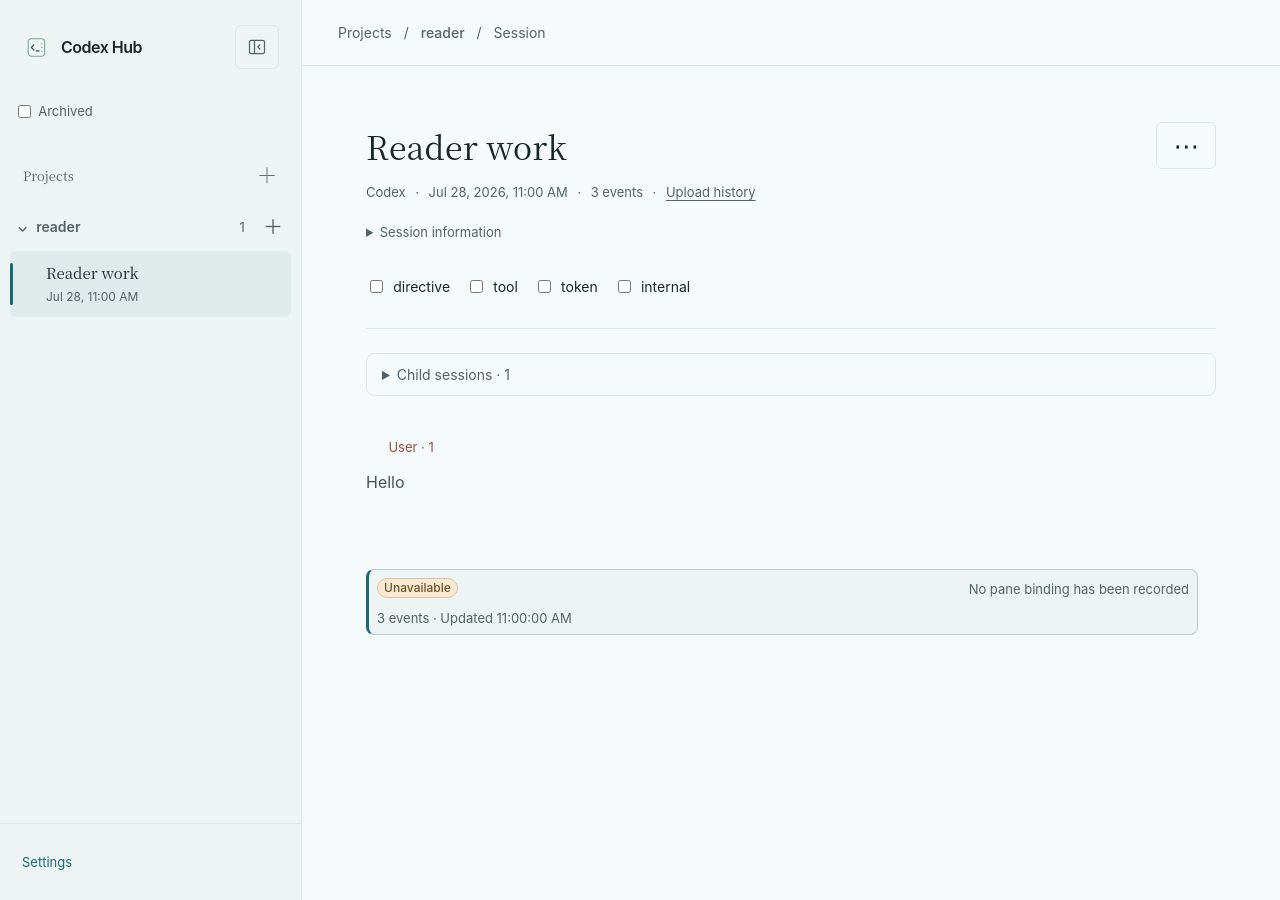
Test case: keeps archived content open while removing navigation, then returns to the project list after deletion
The width and height of the screenshot is (1280, 900).
Click the button named "Session management". click: (1186, 145)
box: top-left (1156, 122), bottom-right (1216, 169)
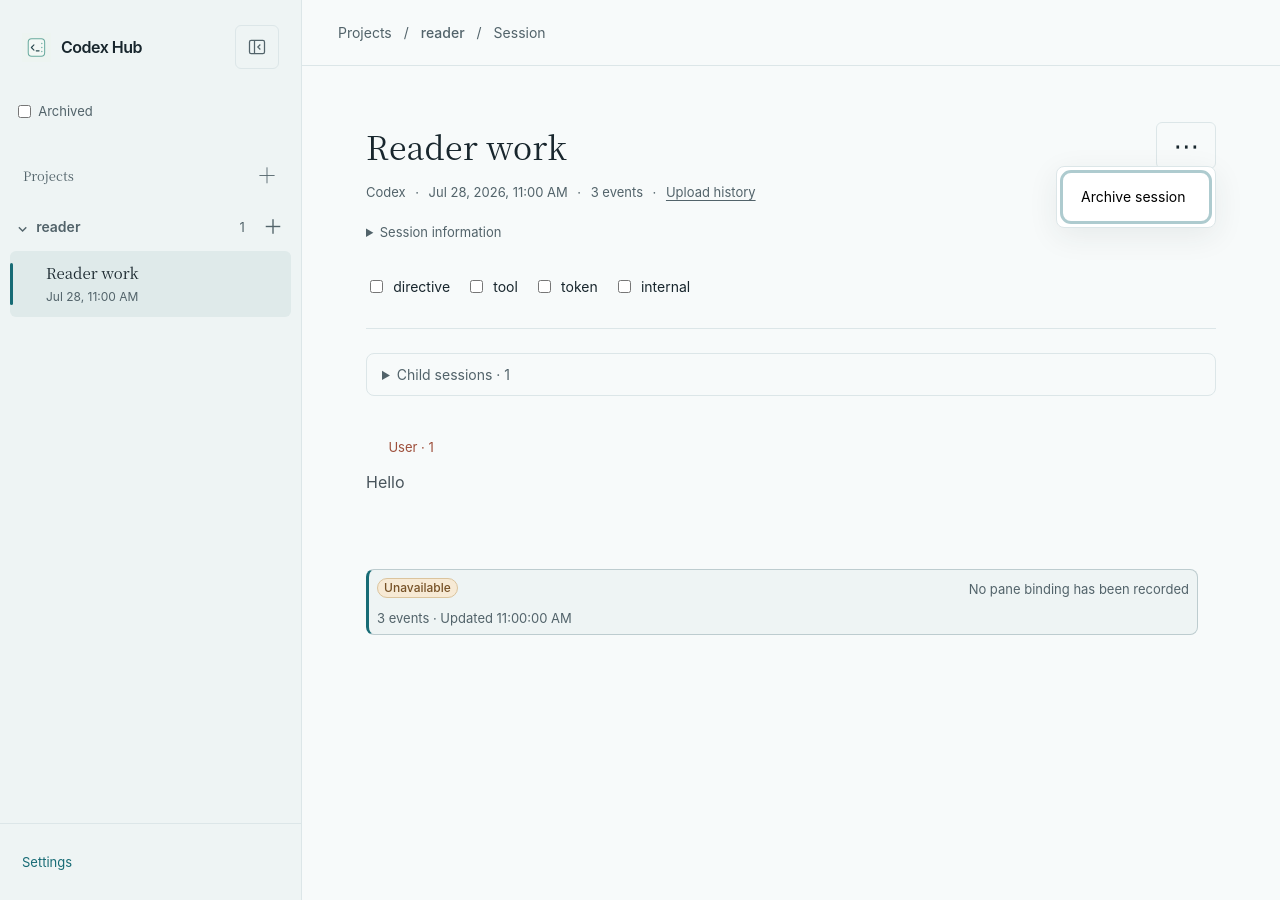
Click the button "Archive session". click: (1136, 197)
box: top-left (1065, 175), bottom-right (1207, 219)
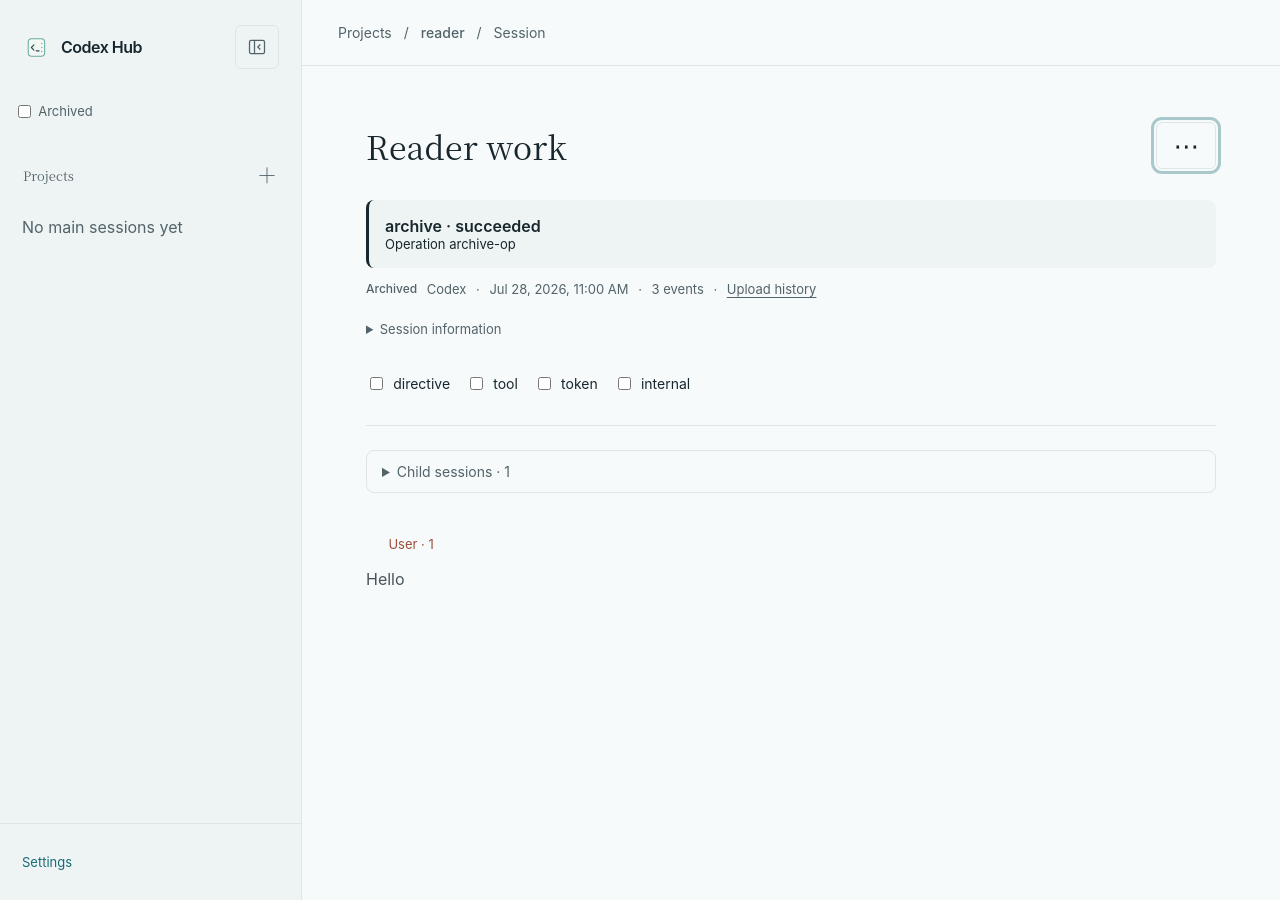
Expected: the heading "Reader work" is shown, top-left (366, 123), bottom-right (567, 169)
Click the button named "Session management". click: (1186, 145)
box: top-left (1156, 122), bottom-right (1216, 169)
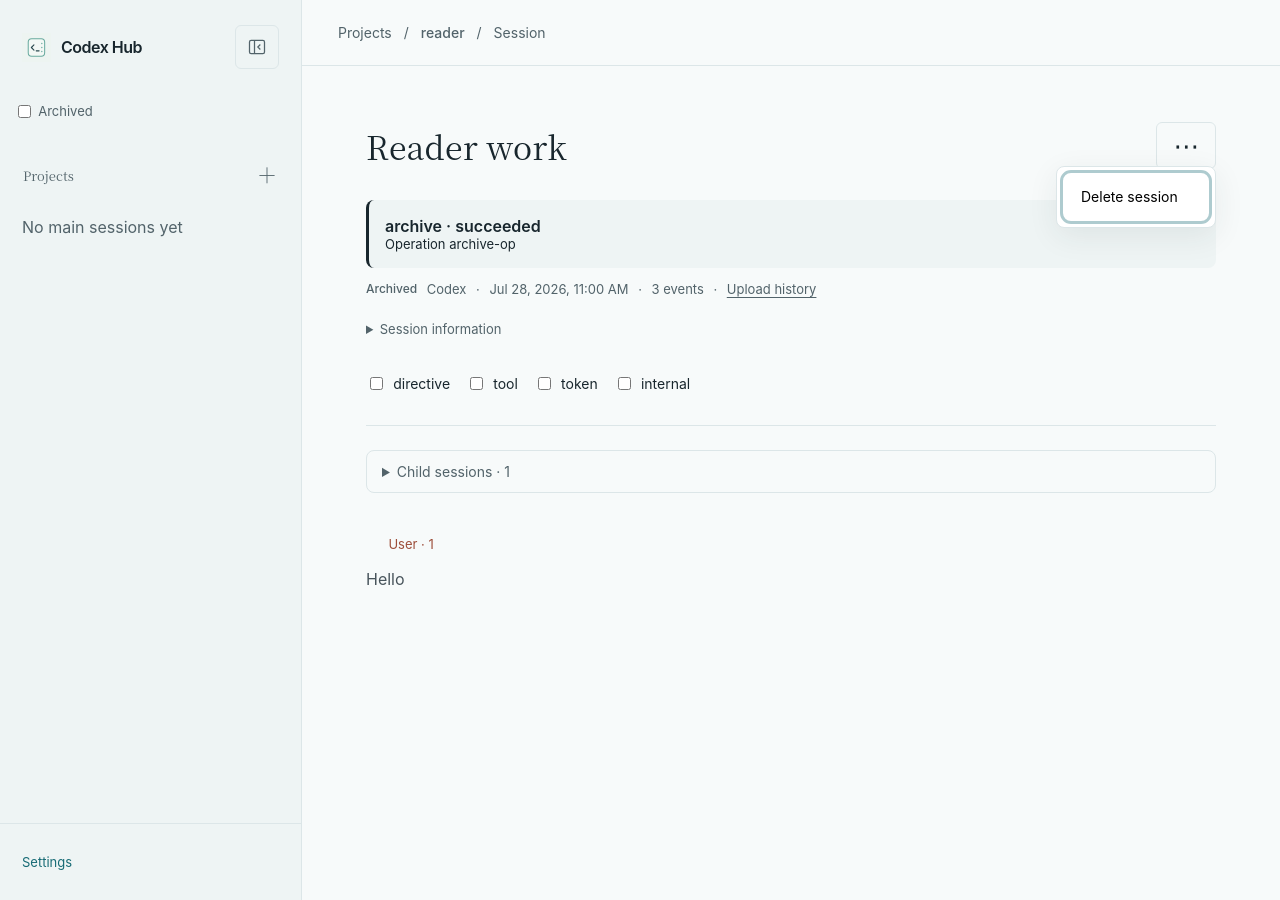
Click the button "Delete session". click: (1136, 197)
box: top-left (1065, 175), bottom-right (1207, 219)
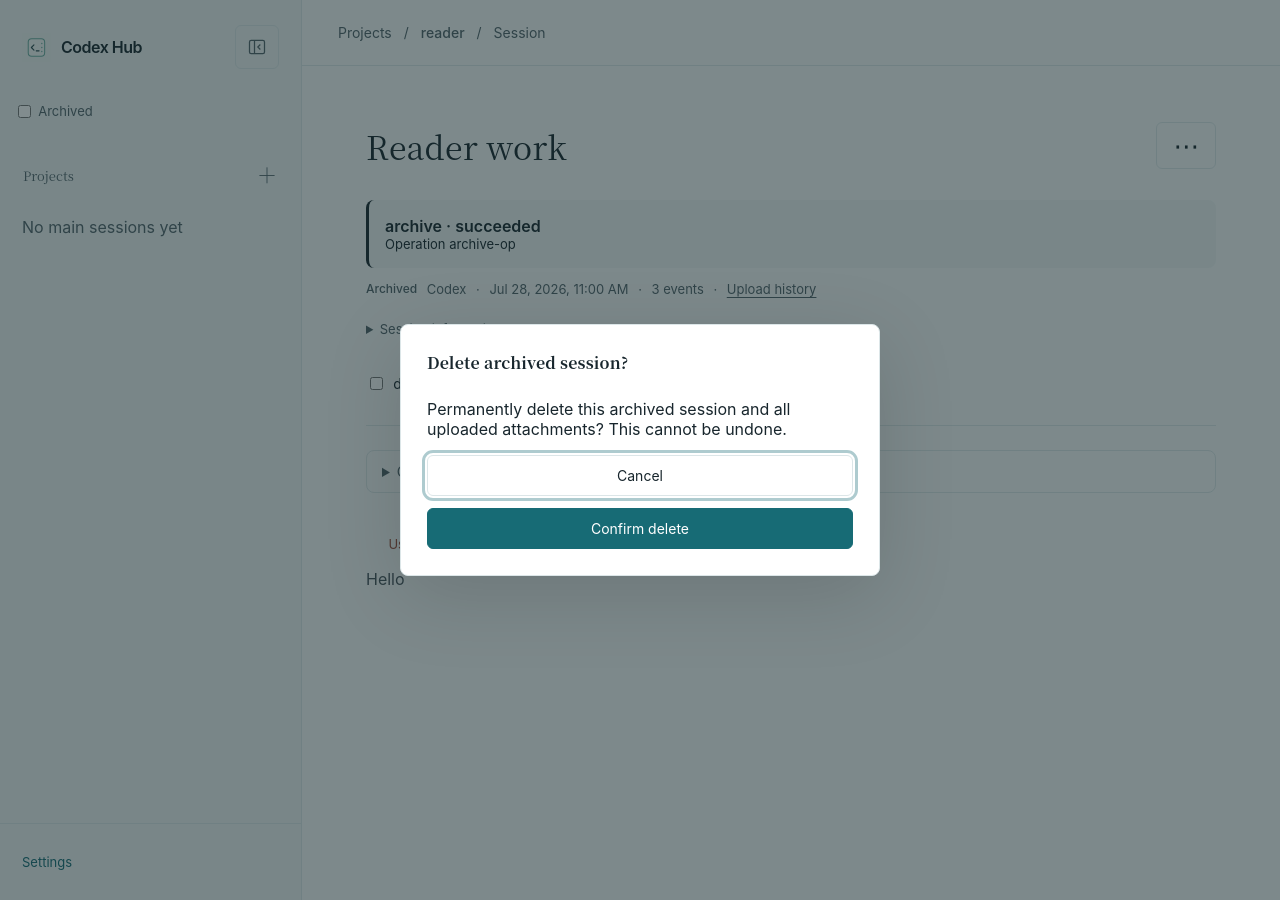
Click the button "Confirm delete". click: (640, 528)
box: top-left (427, 508), bottom-right (853, 549)
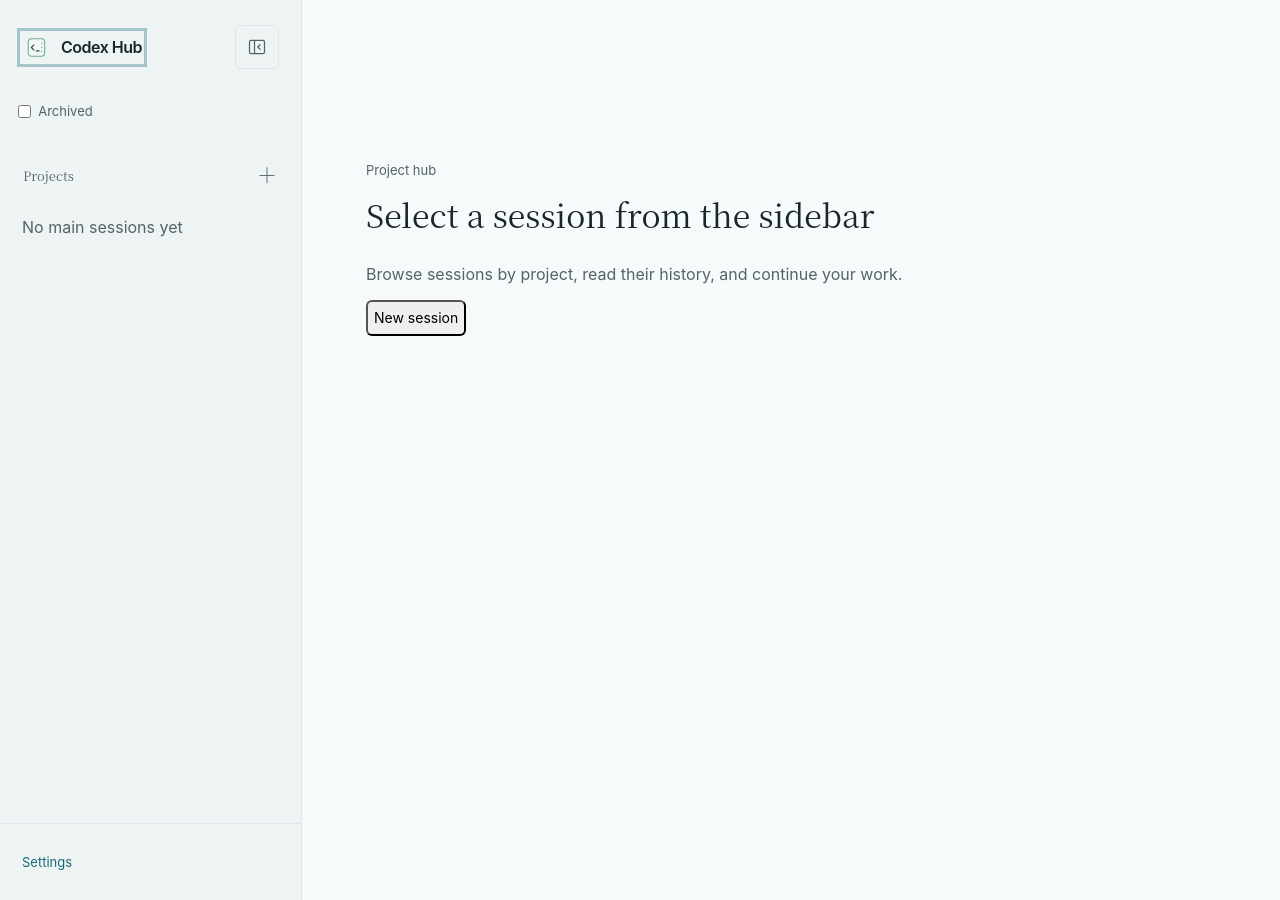
Now the heading "Select a session from the sidebar" is shown, box top-left (366, 191), bottom-right (874, 237)
